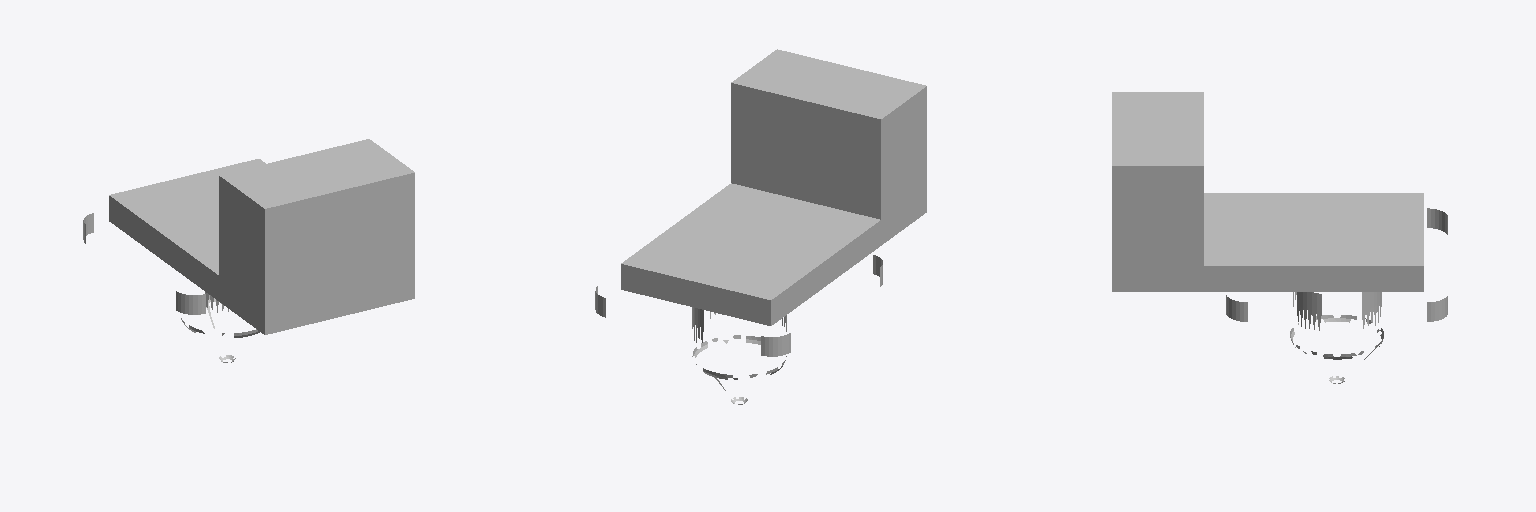
File: 180709 Foot A.obj
3 views of the same model, side by side, from view 1: azimuth 30°, elevation 25°; view 2: azimuth 150°, elevation 25°; view 3: azimuth 270°, elevation 25° (orthographic).
Bounding box in the file's own units: 0.1025 × 0.129 × 0.1552.